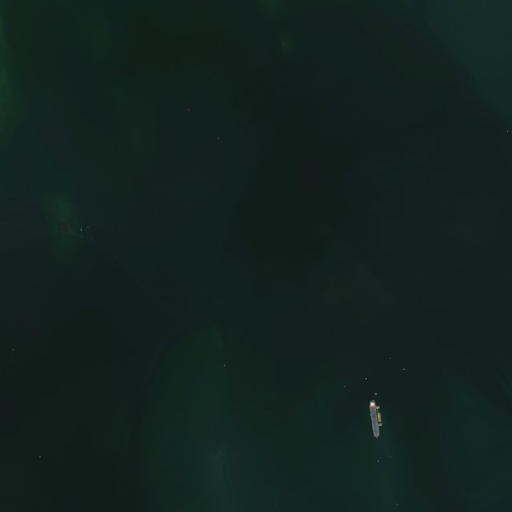ship: (367, 397, 384, 442)
